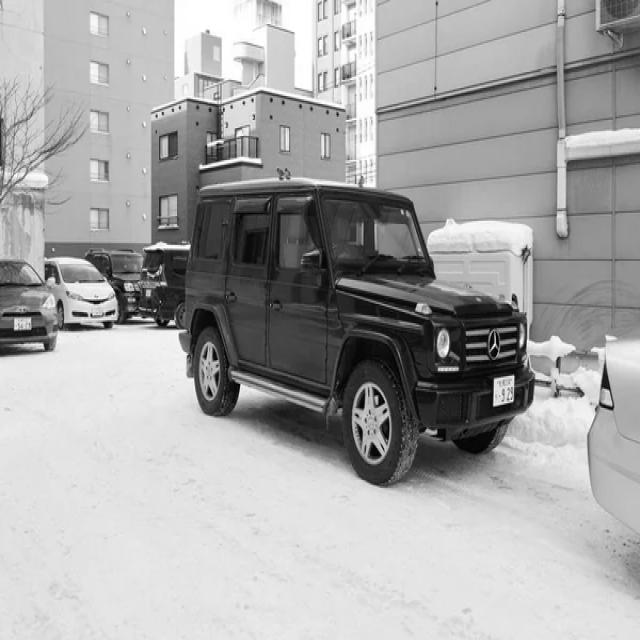Car: (180, 179, 536, 486), (0, 255, 58, 360), (43, 259, 119, 329), (85, 251, 143, 324), (140, 243, 190, 327)
